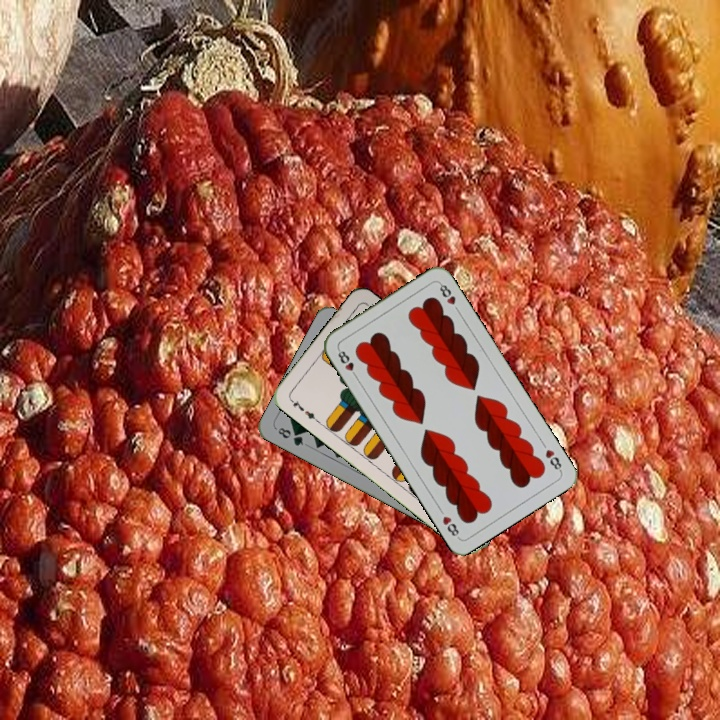E7: (286, 395, 321, 424)
G8: (274, 423, 306, 448)
H8: (334, 345, 360, 381), (541, 445, 564, 474)
